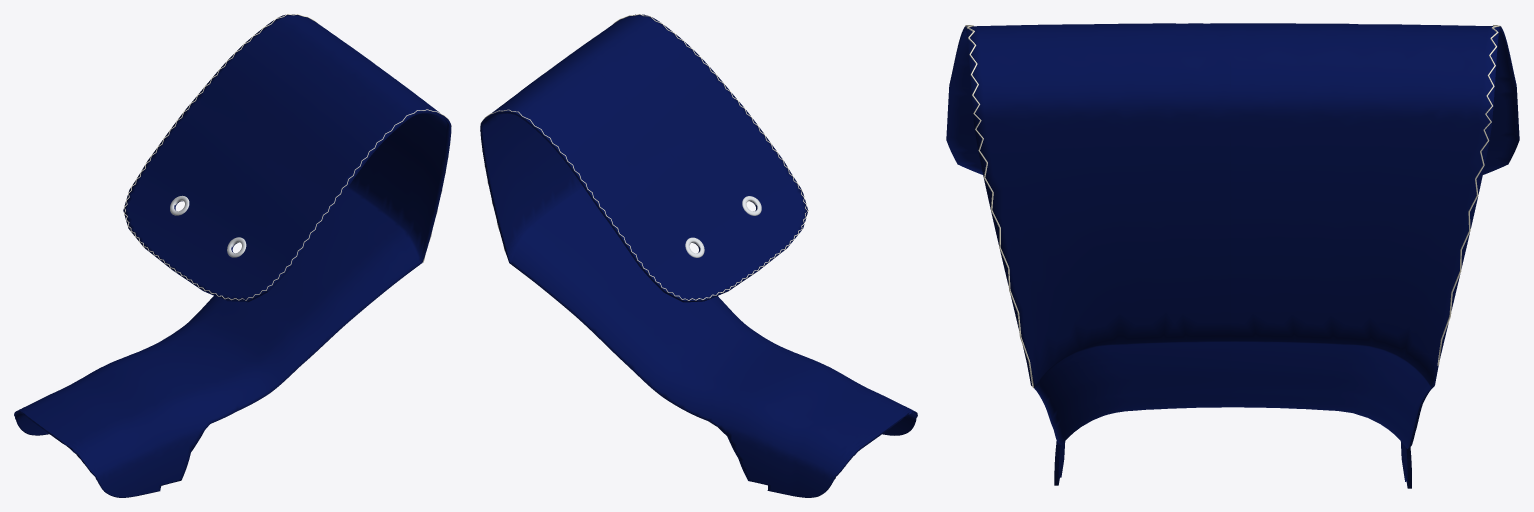
File: SOULGRAIN-V5.2-tongue-only.glb
3 renders of one model, left to right at view 1: azimuth 30°, elevation 25°; view 2: azimuth 150°, elevation 25°; view 3: azimuth 270°, elevation 25°, orthographic. The views are drawn at different scales.
Parts seen in each view (by area): view 1: PNL_BACK_FOLD_ROUNDED_TWO_HOLES, PNL_FRONT_FAN_AND_FLAT_LACING_DECK, GEO_TONGUE_THICKNESS_AND_HOLE_WALLS, DEC_CONTINUOUS_WHITE_ZIGZAG_OVERLOCK; view 2: PNL_BACK_FOLD_ROUNDED_TWO_HOLES, PNL_FRONT_FAN_AND_FLAT_LACING_DECK, GEO_TONGUE_THICKNESS_AND_HOLE_WALLS, DEC_CONTINUOUS_WHITE_ZIGZAG_OVERLOCK; view 3: PNL_BACK_FOLD_ROUNDED_TWO_HOLES, PNL_FRONT_FAN_AND_FLAT_LACING_DECK, DEC_CONTINUOUS_WHITE_ZIGZAG_OVERLOCK, GEO_TONGUE_THICKNESS_AND_HOLE_WALLS.
Boxes of the visible parts, x1,y1,x2,y2 form: PNL_BACK_FOLD_ROUNDED_TWO_HOLES: (123,14,449,300); PNL_FRONT_FAN_AND_FLAT_LACING_DECK: (15,186,421,497); GEO_TONGUE_THICKNESS_AND_HOLE_WALLS: (14,111,451,493); DEC_CONTINUOUS_WHITE_ZIGZAG_OVERLOCK: (124,14,451,300); PNL_BACK_FOLD_ROUNDED_TWO_HOLES: (482,14,808,301); PNL_FRONT_FAN_AND_FLAT_LACING_DECK: (509,187,916,497); GEO_TONGUE_THICKNESS_AND_HOLE_WALLS: (480,111,917,492); DEC_CONTINUOUS_WHITE_ZIGZAG_OVERLOCK: (480,14,808,300); PNL_BACK_FOLD_ROUNDED_TWO_HOLES: (946,23,1519,387); PNL_FRONT_FAN_AND_FLAT_LACING_DECK: (1034,341,1431,487); DEC_CONTINUOUS_WHITE_ZIGZAG_OVERLOCK: (965,25,1500,387); GEO_TONGUE_THICKNESS_AND_HOLE_WALLS: (946,26,1519,488).
Bounding box in the file's own units: 0.8995 × 0.853 × 0.6519.
Materials: 3 (1 with a texture image).
